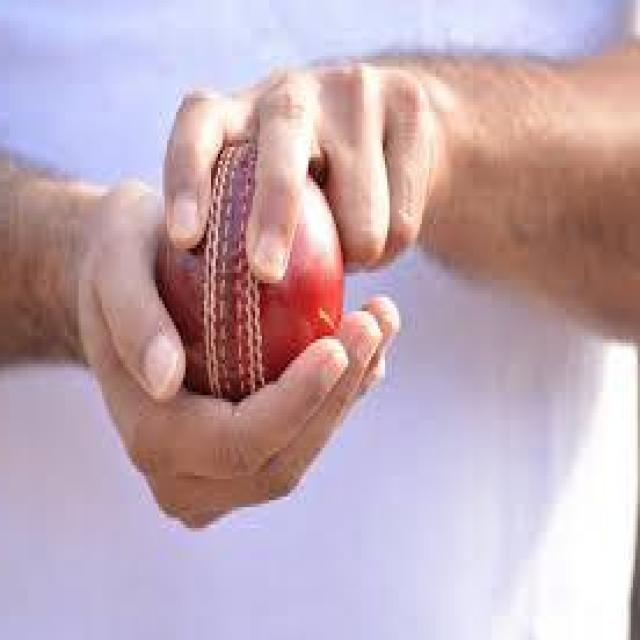ball: (153, 140, 346, 420)
